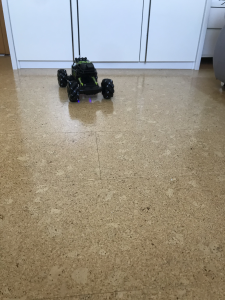remote control car: (56, 53, 118, 103)
